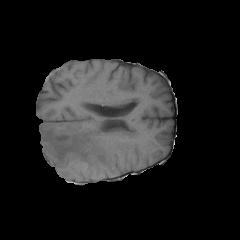glioma: (39, 122, 132, 180)
